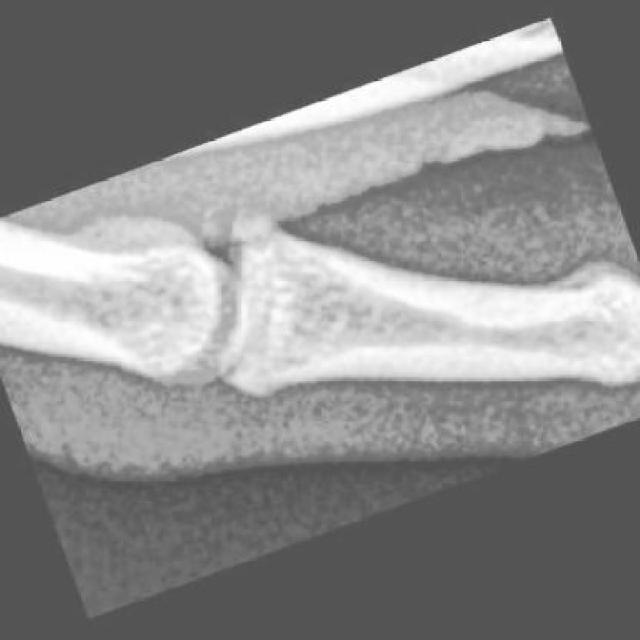Fracture: (214, 189, 307, 286)
